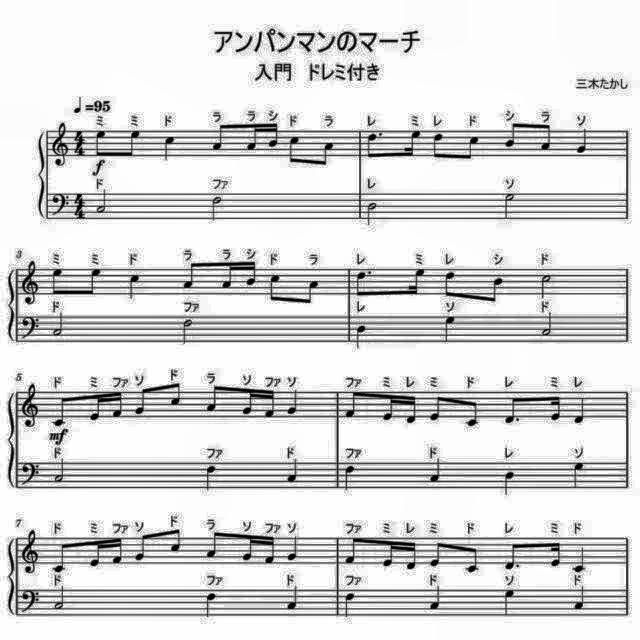Bass-clef: (18, 315, 42, 345), (18, 584, 42, 614), (18, 461, 42, 491), (50, 190, 72, 218)
Eighth-note: (484, 274, 508, 306), (84, 265, 106, 299), (503, 540, 525, 574), (503, 392, 525, 426), (52, 538, 72, 574), (52, 392, 72, 428), (301, 276, 323, 308), (178, 261, 200, 293), (266, 271, 286, 305), (124, 126, 144, 160), (132, 532, 152, 566), (462, 543, 482, 577), (426, 538, 446, 570), (318, 138, 338, 170), (428, 130, 448, 162), (502, 120, 522, 152), (344, 534, 364, 566), (464, 399, 484, 431), (342, 388, 362, 420), (461, 133, 482, 163), (352, 269, 373, 299), (285, 133, 303, 167), (210, 124, 230, 154), (427, 394, 445, 426), (537, 124, 555, 156), (134, 382, 152, 414), (363, 130, 381, 162), (49, 266, 67, 298), (442, 270, 461, 300), (204, 381, 222, 412), (167, 525, 185, 555), (204, 532, 222, 562), (167, 379, 185, 409), (264, 389, 280, 421), (548, 540, 564, 572), (94, 128, 110, 158)
Half-note: (177, 316, 196, 346), (207, 194, 225, 224), (499, 191, 517, 221), (53, 582, 71, 610), (538, 274, 556, 302), (54, 460, 70, 488), (50, 310, 66, 338), (94, 188, 110, 216), (362, 200, 378, 228), (538, 310, 554, 338)
Quarter-note: (126, 271, 146, 301), (282, 584, 302, 612), (570, 397, 588, 428), (284, 387, 302, 418), (284, 532, 302, 562), (570, 545, 588, 575), (441, 313, 459, 343), (499, 587, 516, 617), (283, 457, 301, 485), (426, 457, 444, 485), (570, 584, 588, 612), (426, 582, 444, 610), (499, 468, 516, 497), (576, 126, 592, 156), (342, 590, 358, 620), (342, 462, 358, 492), (160, 134, 177, 162), (203, 590, 220, 618), (570, 459, 586, 488), (203, 463, 219, 491), (352, 324, 368, 352)
Sixteenth-note: (406, 266, 428, 298), (405, 128, 425, 162), (404, 536, 421, 572), (88, 538, 106, 572), (88, 392, 106, 426), (379, 392, 397, 424), (377, 540, 395, 572), (239, 532, 257, 564), (217, 260, 235, 292), (405, 394, 421, 428), (264, 534, 280, 568), (110, 535, 126, 569), (241, 124, 259, 154), (112, 390, 128, 422), (242, 261, 258, 291), (240, 387, 256, 417), (548, 392, 564, 422), (266, 122, 282, 150)
Treble-clef: (18, 383, 42, 432), (18, 260, 42, 308), (18, 530, 42, 578), (51, 119, 73, 169)
